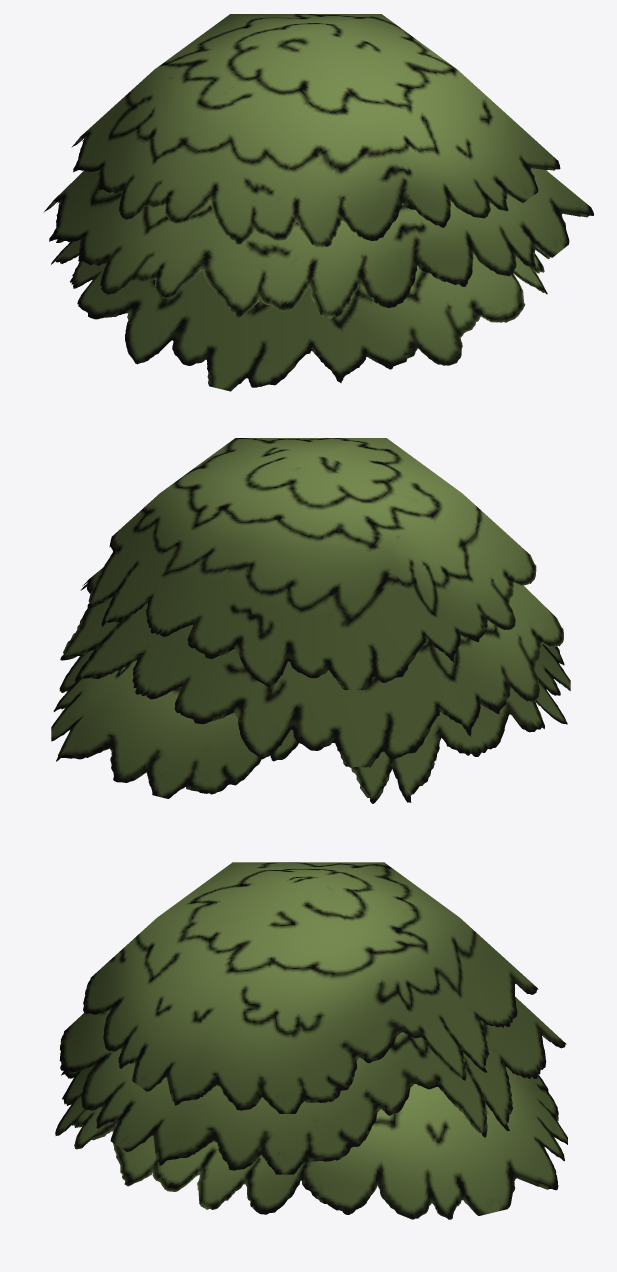
Rendered from Bush_00.fbx.
The picture shows the model from 3 angles, top to bottom: view 1: azimuth 30°, elevation 25°; view 2: azimuth 150°, elevation 25°; view 3: azimuth 270°, elevation 25°; orthographic projection.
Parts seen in each view (by area): view 1: Bush_00; view 2: Bush_00; view 3: Bush_00.
Boxes of the visible parts, <box> form: Bush_00: <box>44,14,593,391</box>; Bush_00: <box>51,438,570,803</box>; Bush_00: <box>55,862,567,1219</box>.
Size of the model in its own units: 117 by 53.9 by 115.
